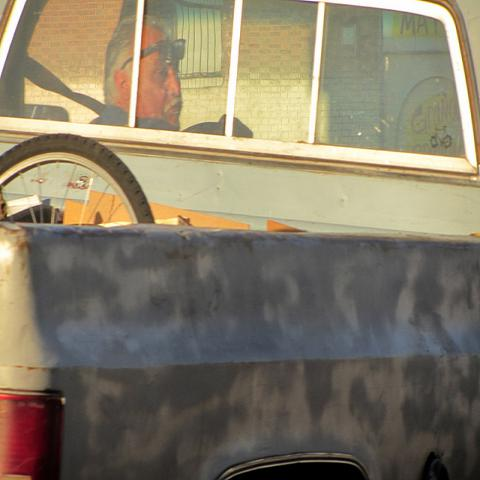truck: (0, 215, 479, 476), (2, 3, 478, 243)
